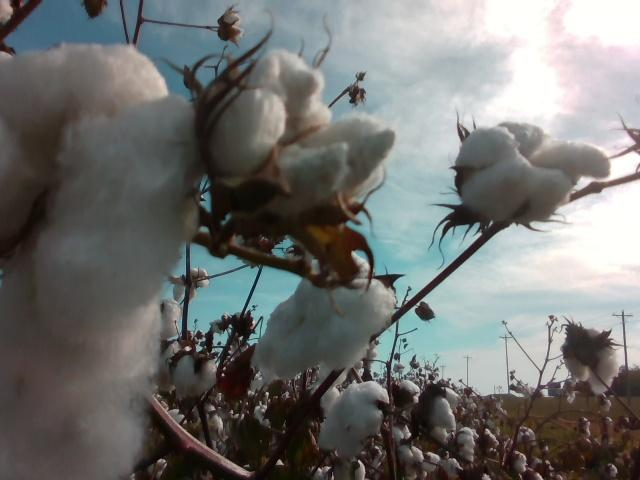cotton_ready: (0, 41, 206, 480), (210, 46, 397, 226), (251, 251, 396, 386), (456, 122, 612, 222), (318, 380, 388, 454), (561, 327, 618, 396), (160, 341, 221, 399), (423, 386, 461, 444), (158, 298, 182, 340), (220, 5, 242, 45), (399, 379, 421, 402)
